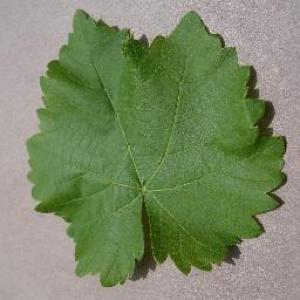Folha: (25, 7, 287, 287)
